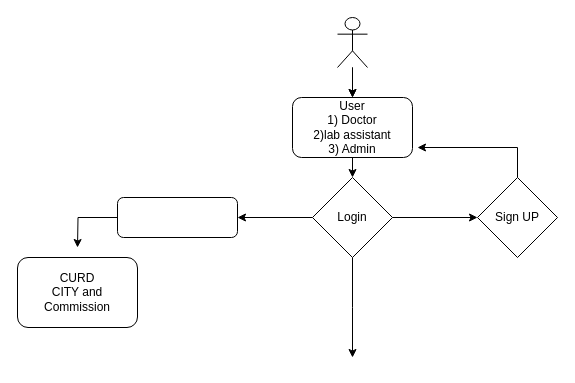
Some shapes in this 575 by 383 pixel diagram are drawn without their labels. The shapes that lost their labels are listed below. From the top down, each one's centre as x and y in pixels, then its label:
At pixel 352 42: "Actor".
At pixel 177 217: "Admin".
